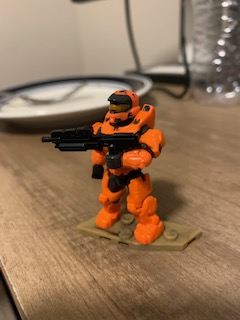rifle: (40, 127, 139, 167)
spartan: (92, 88, 169, 250)
